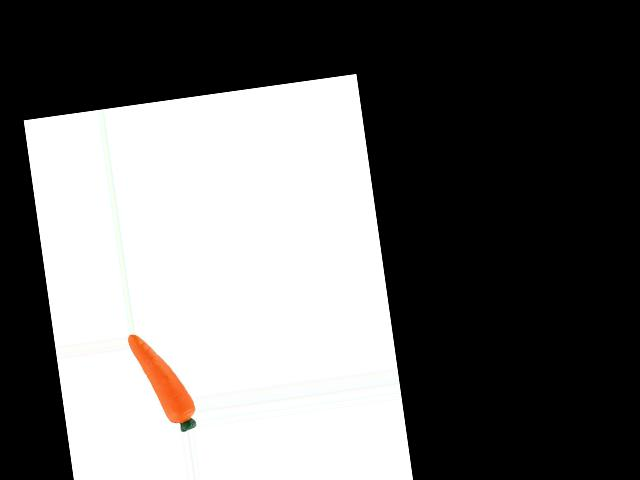carrot: (125, 327, 195, 428)
